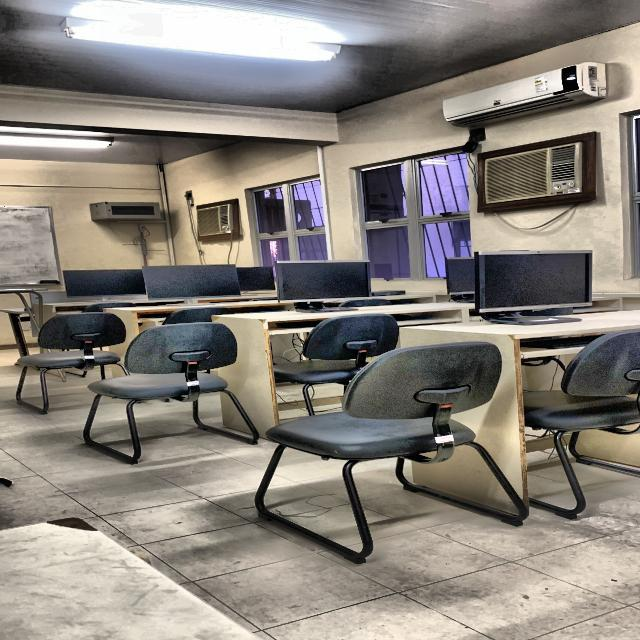cadeira: (243, 335, 543, 567), (72, 317, 268, 471), (522, 328, 640, 526), (264, 312, 406, 422), (14, 313, 129, 417)
